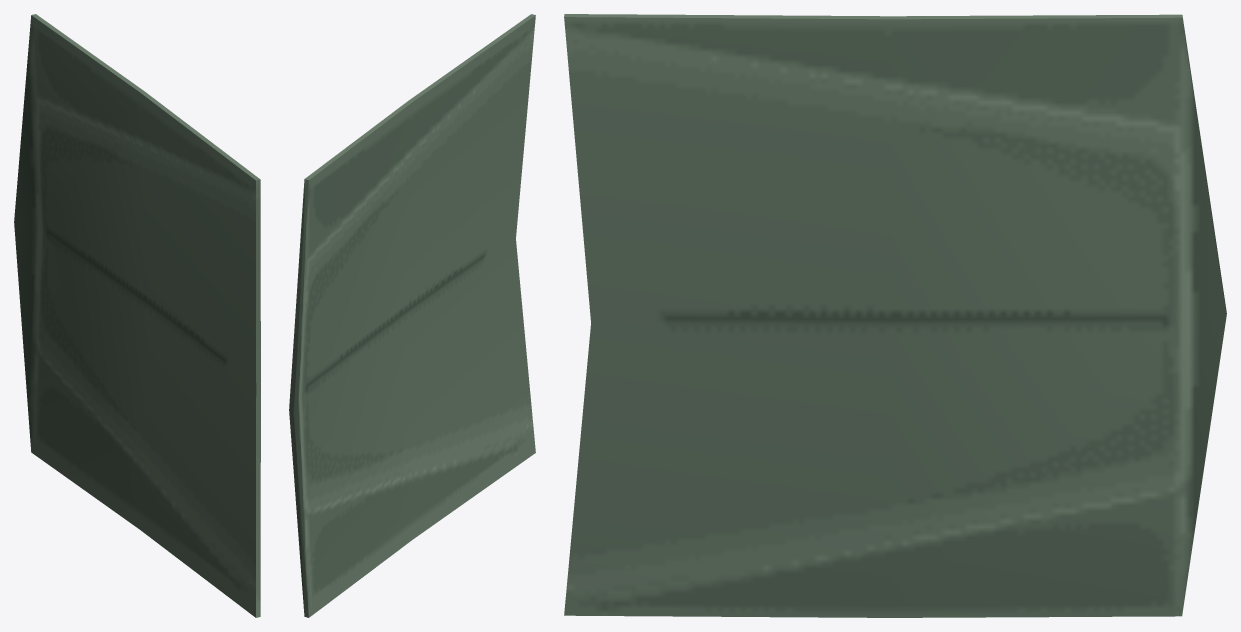
Rendered from CarHood_Hand.fbx.
The picture shows the model from 3 angles, left to right: view 1: azimuth 30°, elevation 25°; view 2: azimuth 150°, elevation 25°; view 3: azimuth 270°, elevation 25°; orthographic projection. The views are drawn at different scales.
Visible parts, largest first — view 1: CarHood; view 2: CarHood; view 3: CarHood.
Part boxes in pixels (box(x1,y1,x2,y2)): CarHood: box(14, 14, 260, 617); CarHood: box(289, 14, 535, 617); CarHood: box(564, 14, 1226, 617).
Size of the model in its own units: 0.0314 by 0.7604 by 0.763.
